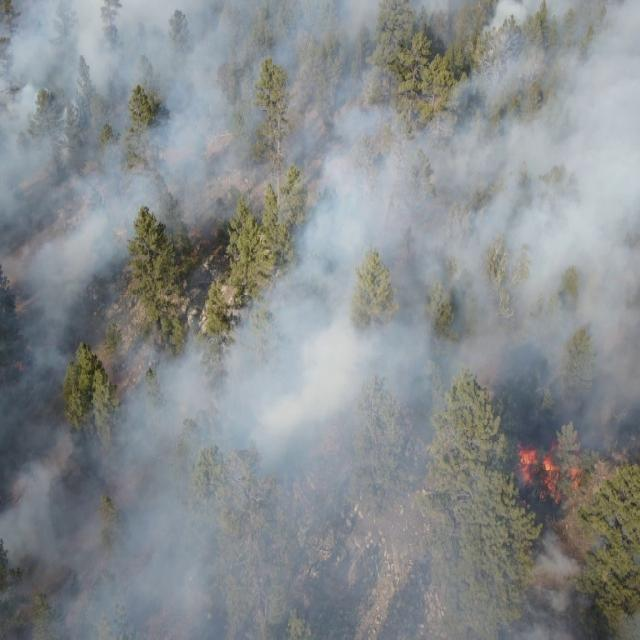fire: (514, 438, 593, 506), (12, 358, 28, 374)
smoke: (2, 0, 640, 640)
